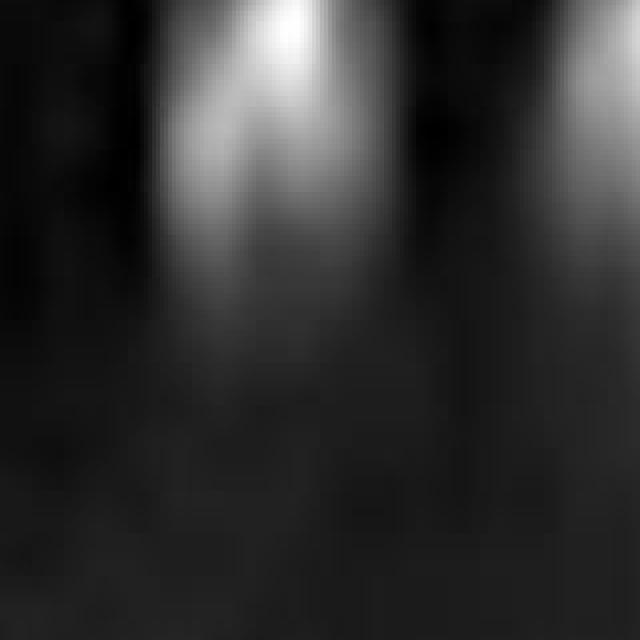person: (125, 1, 417, 390), (545, 1, 640, 406)
